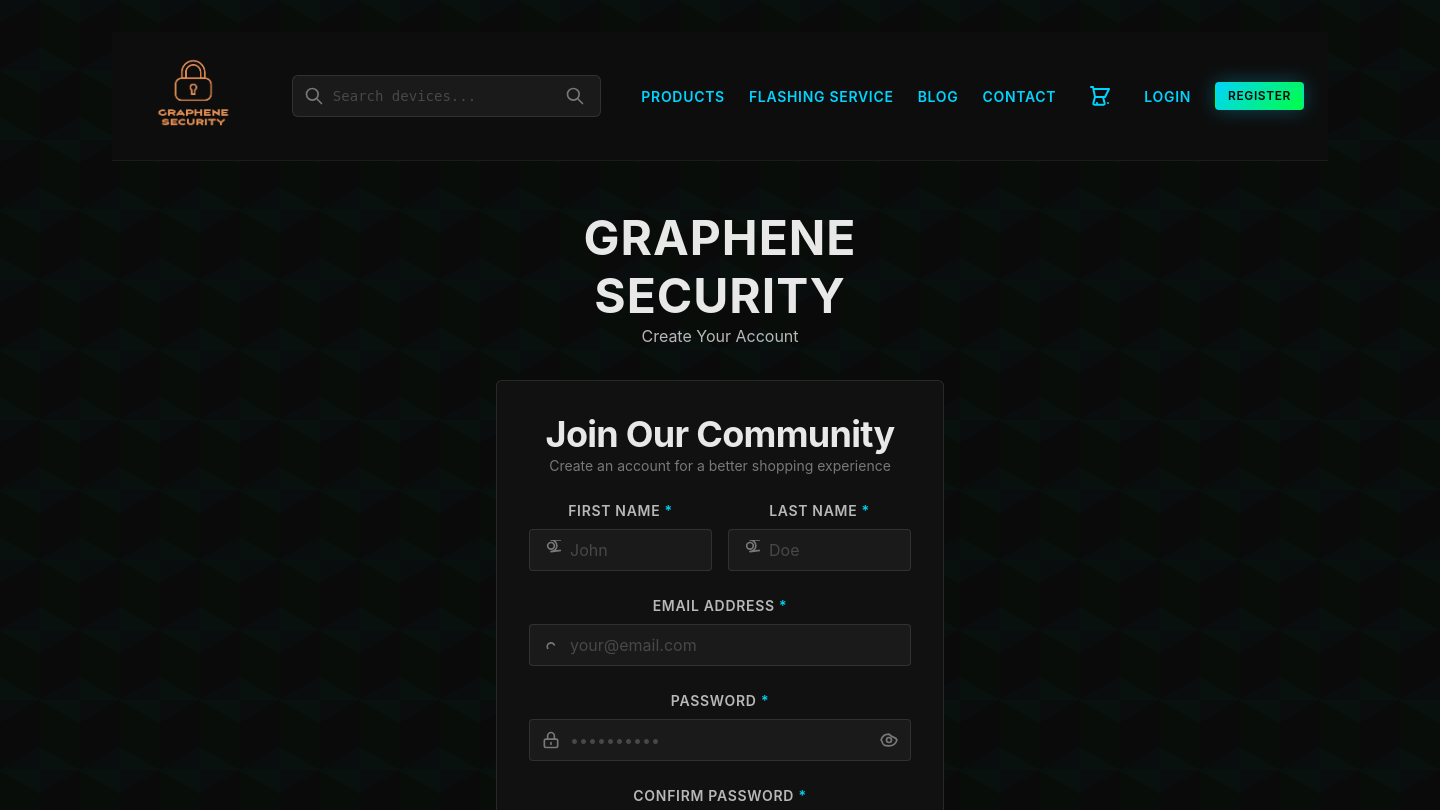
Test: Registration Flow Integration Tests › should show password requirements when password field is focused
# Focus password field
Click the password field labelled "Password *". click: click(720, 740)
box: [529,719,911,761]
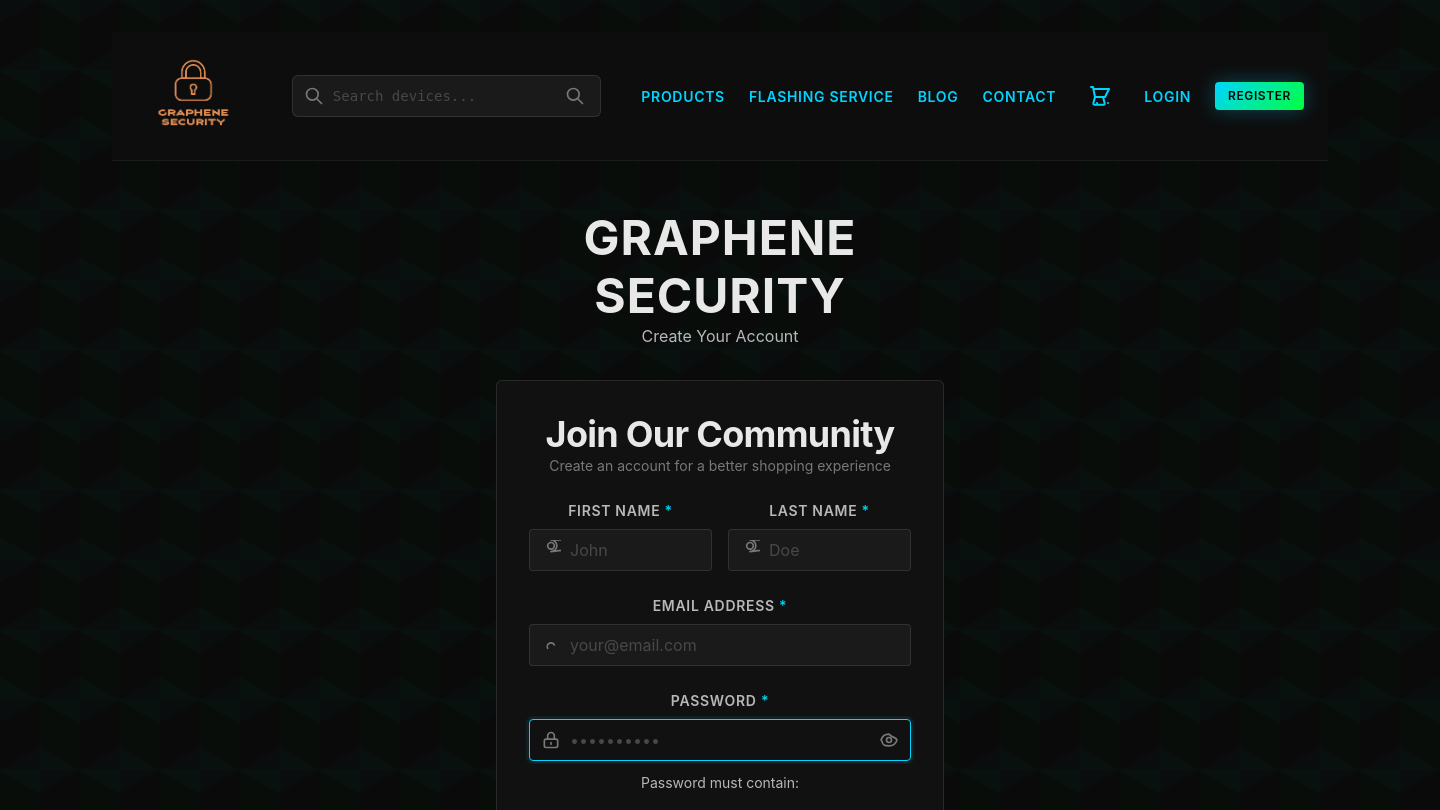
Now the text "Password must contain:" is shown, box [641,774,799,791]
